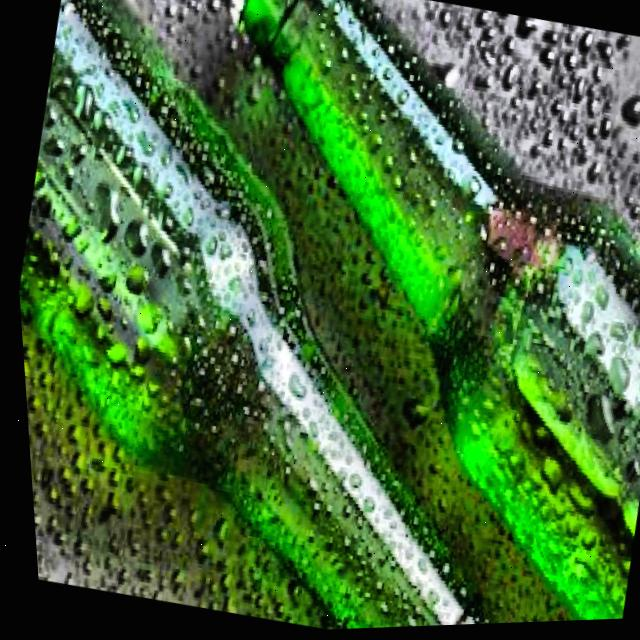glass: (15, 0, 493, 632), (227, 0, 640, 624)
